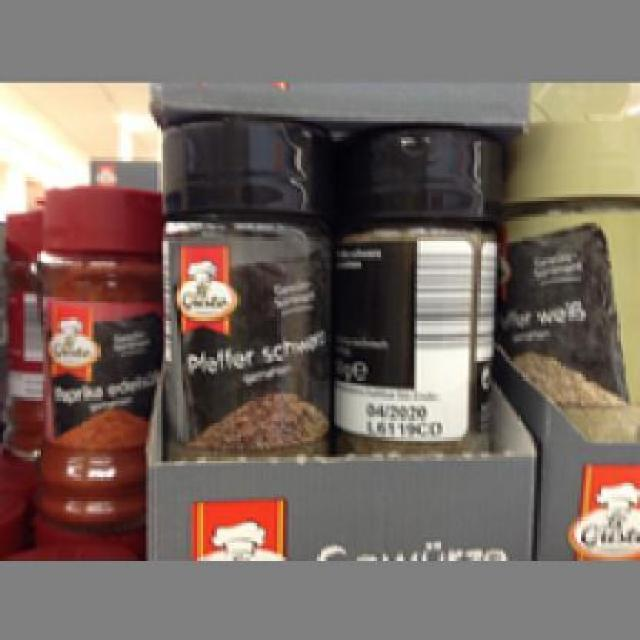Spices: (153, 117, 330, 452), (331, 122, 500, 455), (37, 183, 154, 543)
